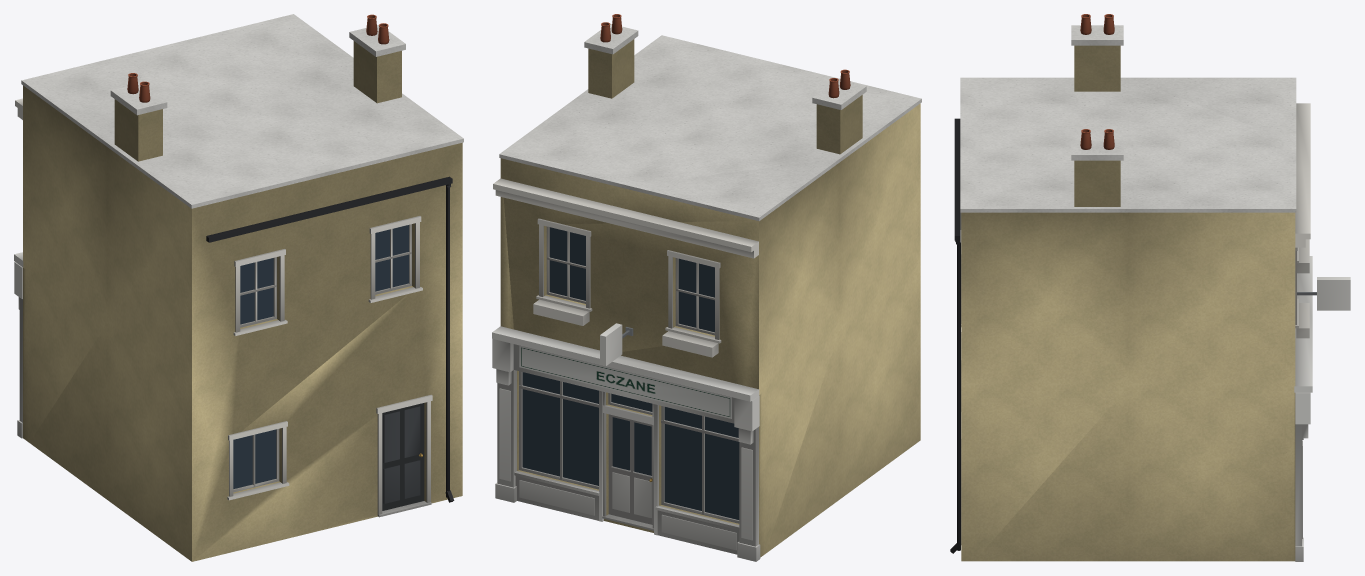
The model's file is pharmacy_lod0.glb.
3 views of the same model, side by side, from view 1: azimuth 30°, elevation 25°; view 2: azimuth 150°, elevation 25°; view 3: azimuth 270°, elevation 25° (orthographic). The views are drawn at different scales.
Parts seen in each view (by area): view 1: pharmacy; view 2: pharmacy; view 3: pharmacy.
Boxes of the visible parts, x1=… form: pharmacy: x1=14, y1=14, x2=463, y2=561; pharmacy: x1=492, y1=14, x2=921, y2=561; pharmacy: x1=950, y1=14, x2=1350, y2=561.
Bounding box in the file's own units: 6.06 × 9.08 × 7.8.
Materials: 8 (6 with a texture image).
